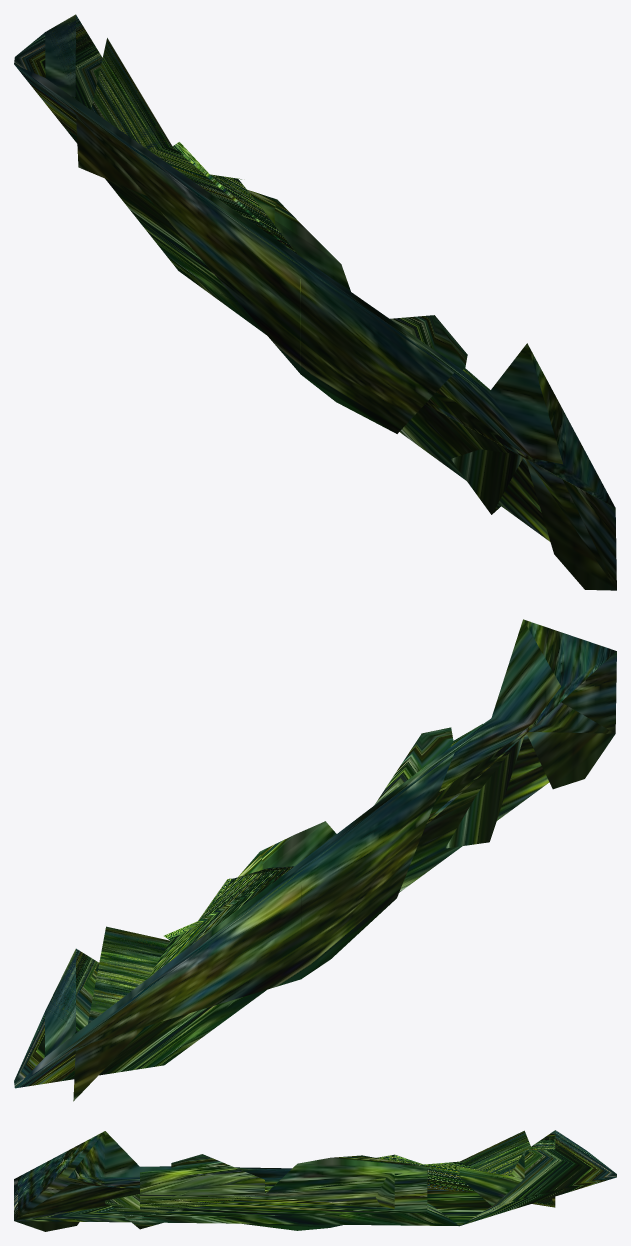
The picture shows the model from 3 angles, top to bottom: view 1: azimuth 30°, elevation 25°; view 2: azimuth 150°, elevation 25°; view 3: azimuth 270°, elevation 25°; orthographic projection. The views are drawn at different scales.
Visible parts, largest first — view 1: algae_cube_Cube; view 2: algae_cube_Cube; view 3: algae_cube_Cube.
Boxes of the visible parts, box(x1,y1,x2,y2) form: algae_cube_Cube: box(14, 14, 616, 590); algae_cube_Cube: box(14, 619, 616, 1101); algae_cube_Cube: box(14, 1130, 616, 1231).
Size of the model in its own units: 0.0117 by 0.2355 by 1.26.
